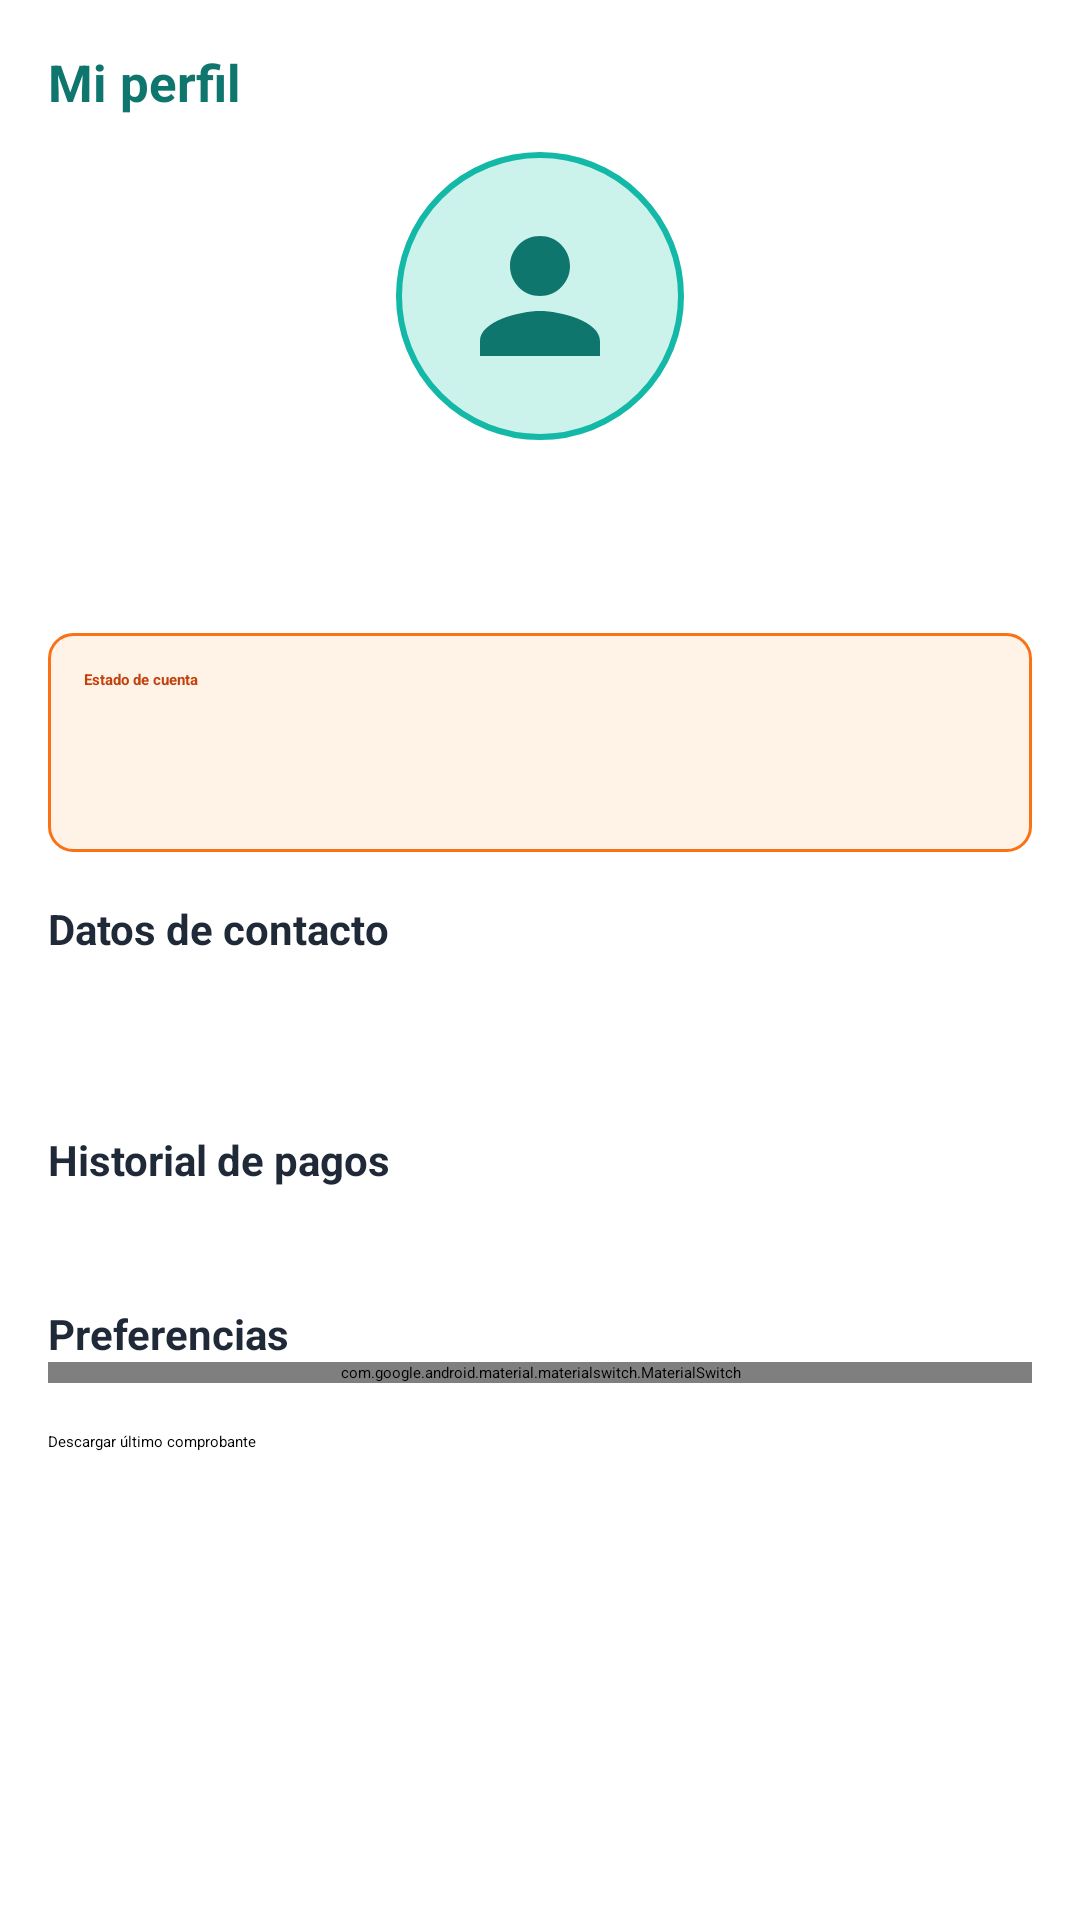

Icons on this 1080x1920 Android screen, each with its box as Rect(x1, y1, x2, y2):
Foto de perfil del propietario: Rect(396, 152, 684, 440)
